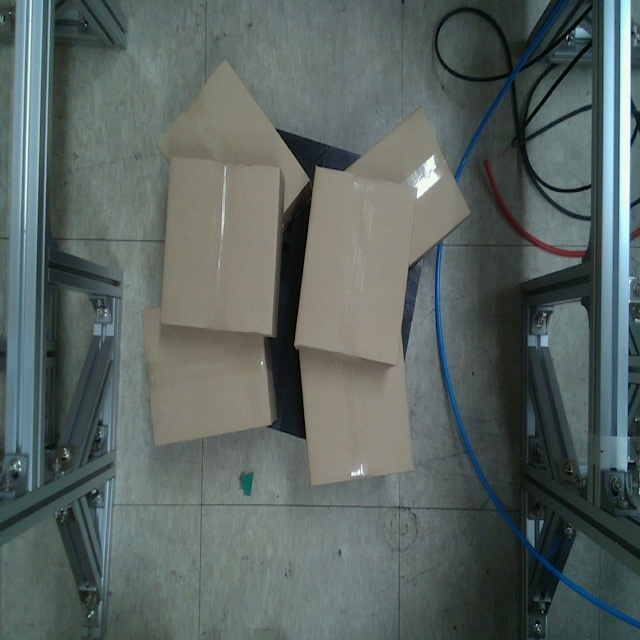box: (291, 163, 418, 366), (158, 157, 282, 339)
